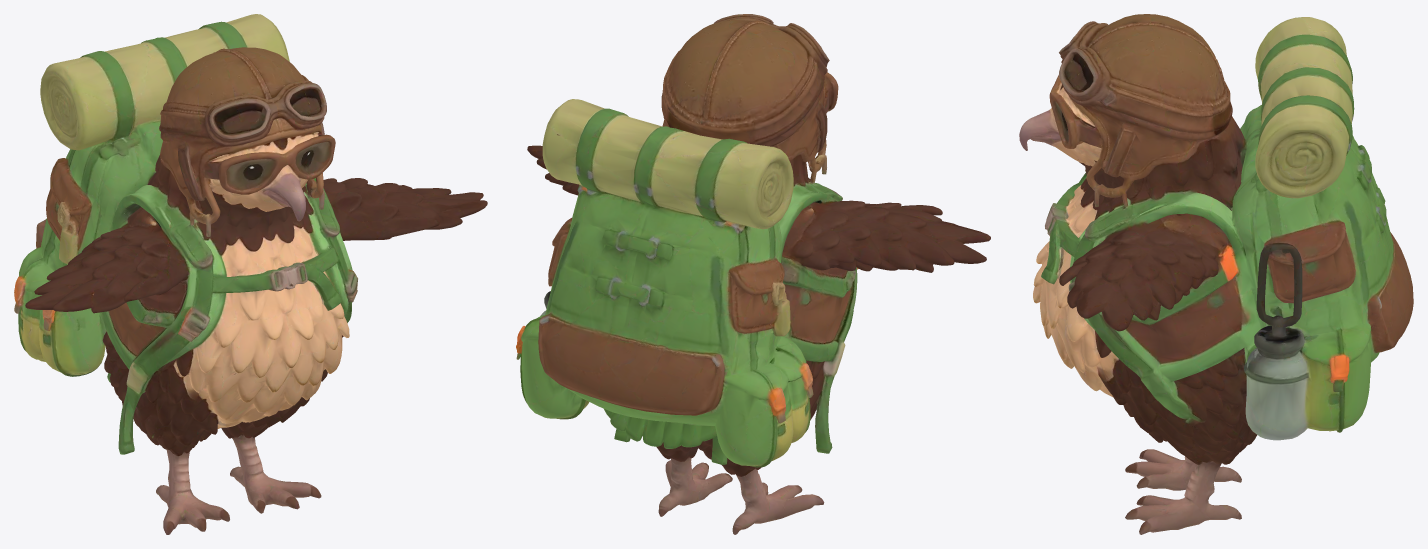
The model's file is kiwi.glb.
3 renders of one model, left to right at view 1: azimuth 30°, elevation 25°; view 2: azimuth 150°, elevation 25°; view 3: azimuth 270°, elevation 25°, orthographic. The views are drawn at different scales.
Bounding box in the file's own units: 1.9 × 1.86 × 1.38.
1 material, 1 textured.
